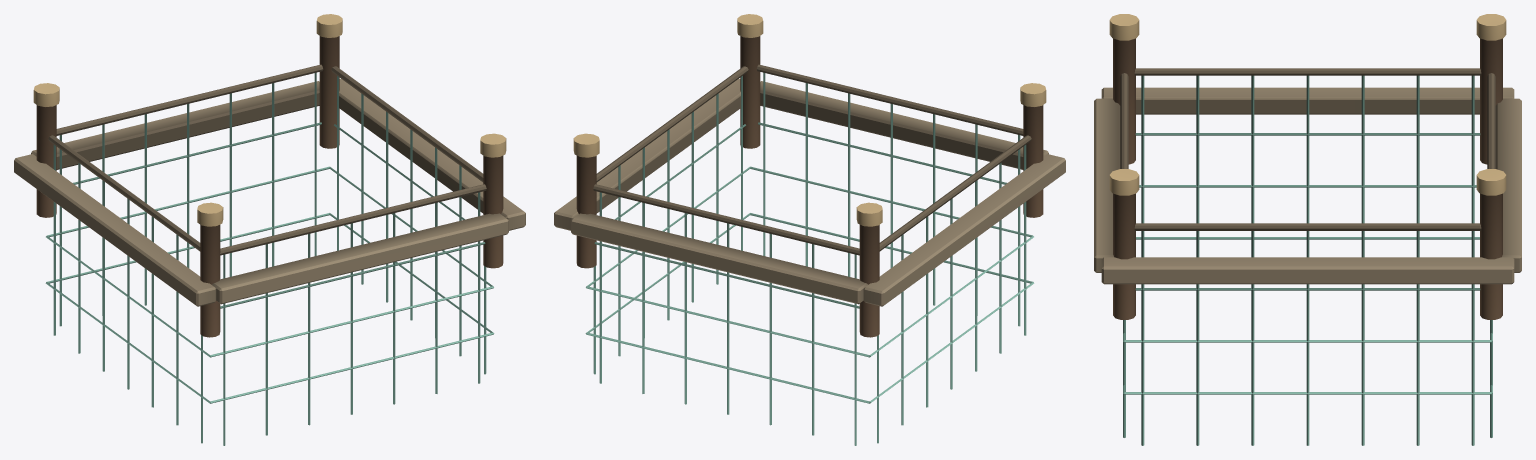
File: pen.glb
3 renders of one model, left to right at view 1: azimuth 30°, elevation 25°; view 2: azimuth 150°, elevation 25°; view 3: azimuth 270°, elevation 25°, orthographic. The views are drawn at different scales.
Parts seen in each view (by area): view 1: pen; view 2: pen; view 3: pen.
Boxes of the visible parts, bbox=[...] form: pen: bbox=[14, 14, 525, 445]; pen: bbox=[554, 14, 1065, 445]; pen: bbox=[1094, 14, 1521, 445].
Bounding box in the file's own units: 3.73 × 2.6 × 3.73.
